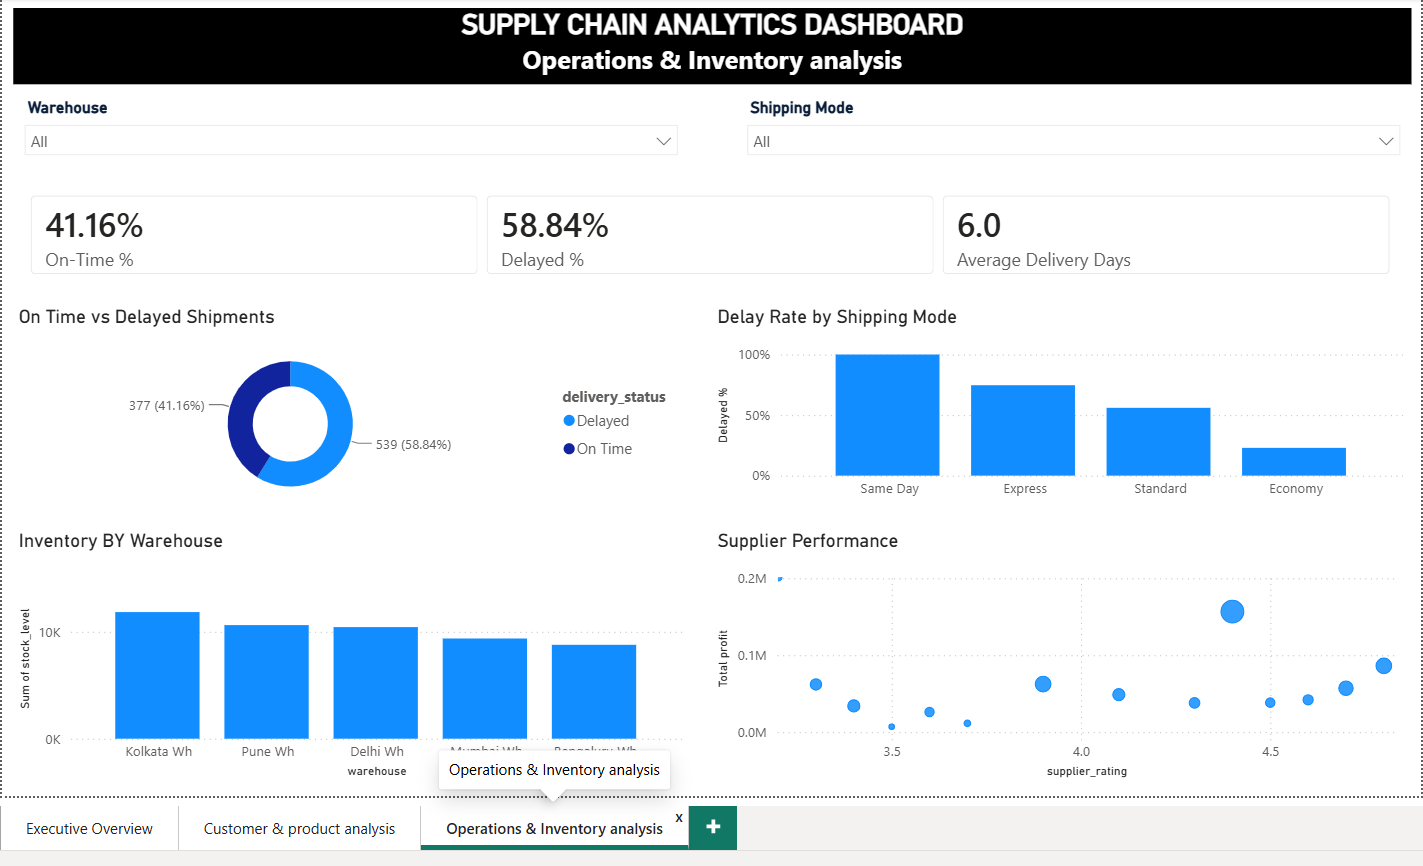

The page's visual inventory and layout, read from the dashboard file:
{"tool":"powerbi","page":{"name":"Operations & Inventory analysis","canvas":[1280,720],"ordinal":2},"visuals":[{"type":"textbox","title":"SUPPLY CHAIN ANALYTICS DASHBOARD","box":[9.8,8.6,1260.7,68.5],"z":0},{"type":"slicer","fields":{"Values":["inventory_clean.warehouse"]},"box":[9.8,85.6,609,67.3],"z":1000},{"type":"slicer","fields":{"Values":["shipments_clean.shipping_mode"]},"box":[661.6,85.6,609,67.3],"z":2000},{"type":"donutChart","title":"On Time vs Delayed Shipments","fields":{"Category":["shipments_clean.delivery_status"],"Y":["CountNonNull(shipments_clean.delivery_status)"]},"box":[9.8,277.6,609,183.4],"z":3000},{"type":"clusteredColumnChart","title":"Delay Rate by Shipping Mode","fields":{"Category":["shipments_clean.shipping_mode"],"Y":["shipments_clean.Delayed %"]},"box":[640.8,277.6,629.8,183.4],"z":4000},{"type":"clusteredColumnChart","title":"Inventory BY Warehouse","fields":{"Category":["inventory_clean.warehouse"],"Y":["Sum(inventory_clean.stock_level)"]},"box":[9.8,479.4,609,228.7],"z":5000},{"type":"scatterChart","title":"Supplier Performance","fields":{"X":["suppliers_clean.supplier_rating"],"Y":["orders_clean.Total profit"],"Size":["orders_clean.Total Sales"]},"box":[640.8,479.4,629.8,228.7],"z":6000},{"type":"cardVisual","fields":{"Data":["shipments_clean.On-Time %","shipments_clean.Delayed %","shipments_clean.Average Delivery Days"]},"box":[9.3,161.6,1260.5,105.8],"z":7000}]}

Visuals, with their boxes on the page's 1280x720 design canvas (x1, y1, x2, y2). These are canvas units, not pixel positions in the 1423x866 screenshot, which may show the page scaled, cropped or inside an application window:
"SUPPLY CHAIN ANALYTICS DASHBOARD" textbox: [10,9,1270,77]
slicer - inventory_clean.warehouse: [10,86,619,153]
slicer - shipments_clean.shipping_mode: [662,86,1271,153]
"On Time vs Delayed Shipments" donutChart: [10,278,619,461]
"Delay Rate by Shipping Mode" clusteredColumnChart: [641,278,1271,461]
"Inventory BY Warehouse" clusteredColumnChart: [10,479,619,708]
"Supplier Performance" scatterChart: [641,479,1271,708]
cardVisual - shipments_clean.On-Time % x shipments_clean.Delayed %: [9,162,1270,267]
